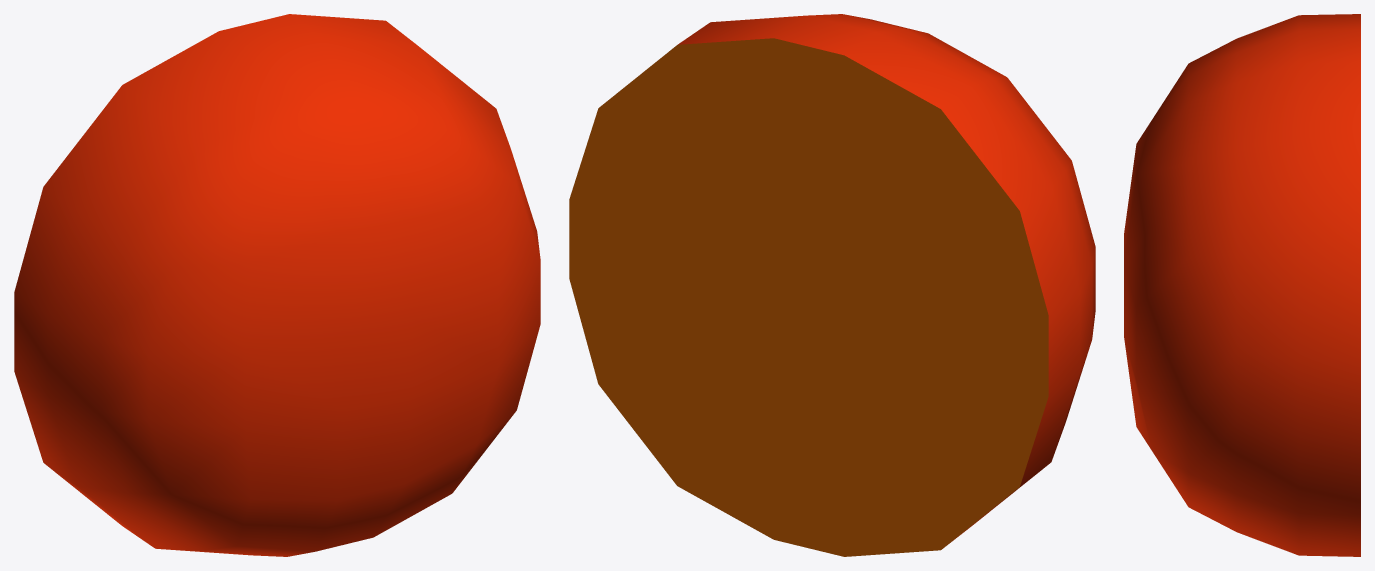
The model's file is mesh_tomato_stage04.fbx.
3 views of the same model, side by side, from view 1: azimuth 30°, elevation 25°; view 2: azimuth 150°, elevation 25°; view 3: azimuth 270°, elevation 25° (orthographic). The views are drawn at different scales.
Visible parts, largest first — view 1: mesh_tomato_stage04; view 2: mesh_tomato_stage04; view 3: mesh_tomato_stage04.
Part boxes in pixels (x1,y1,x2,y2): mesh_tomato_stage04: (14,14,540,556); mesh_tomato_stage04: (569,14,1095,556); mesh_tomato_stage04: (1124,14,1360,556).
Size of the model in its own units: 0.1904 by 0.1904 by 0.0855.
